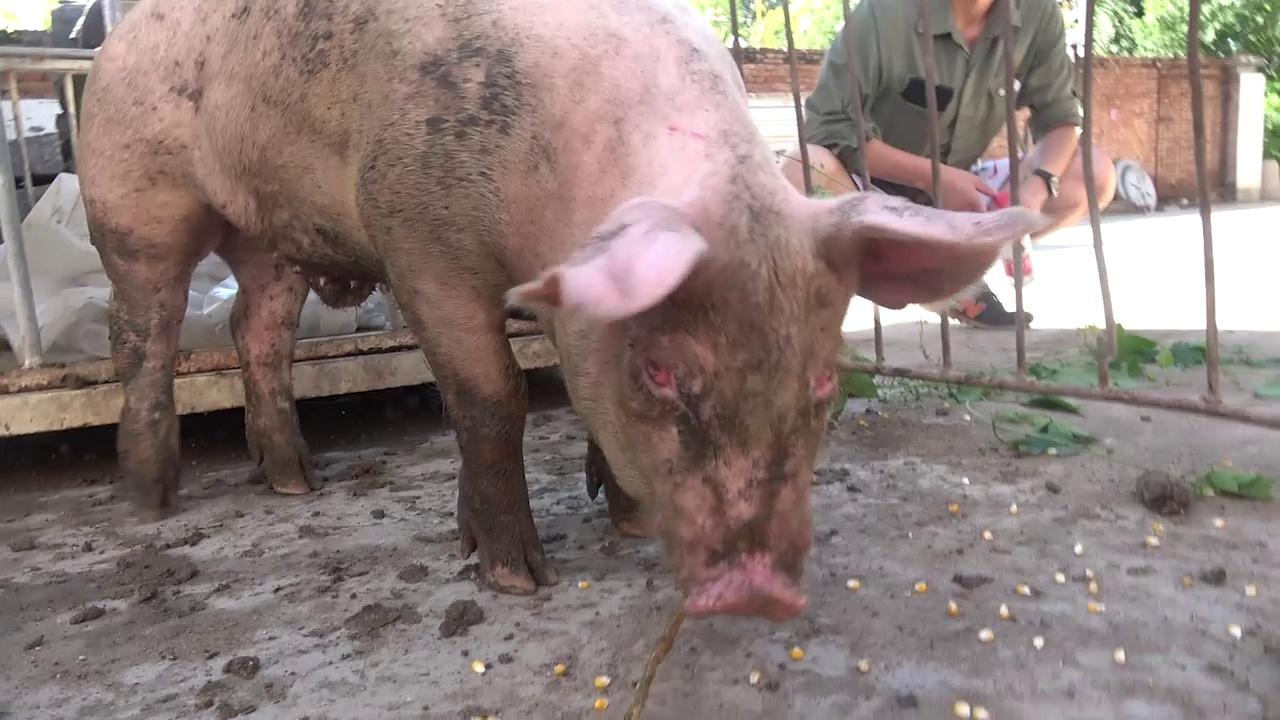Face: (497, 193, 1052, 635)
